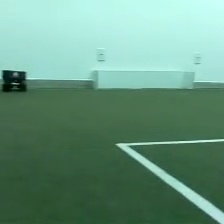goal: (90, 66, 197, 93)
robot: (1, 68, 28, 93)
